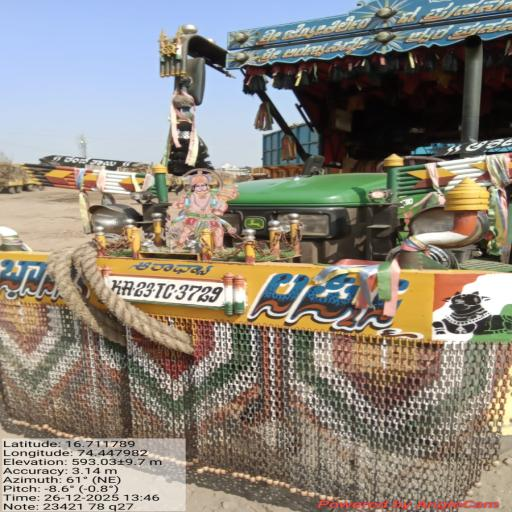number_plate: (99, 273, 235, 308)
